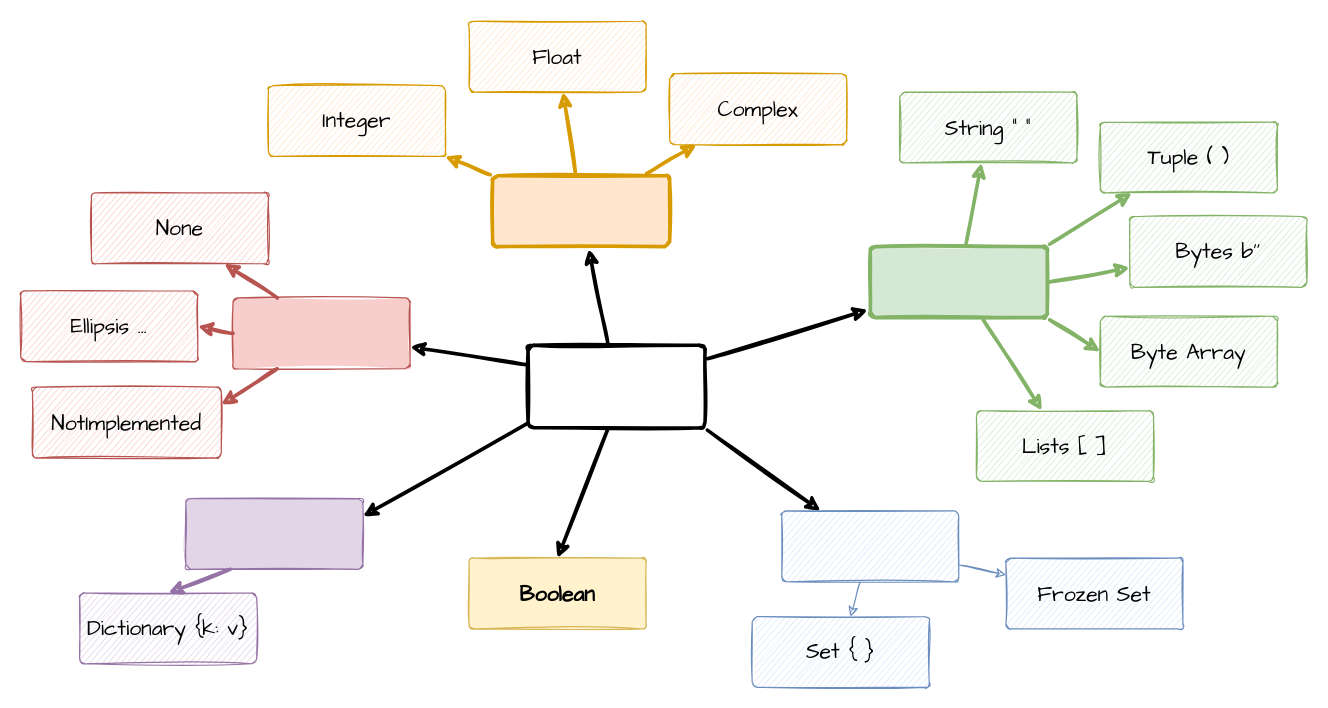
Image size: 1328x708. Some labels were removed from this diagram. Each missing label, with the centre of its shape:
Mappings: point 274,533
Mengen: point 870,546
Numerisch: point 580,210
Sequenziell: point 958,281
Spezieller Wert: point 321,333
Standard-Datentypen: point 616,386
